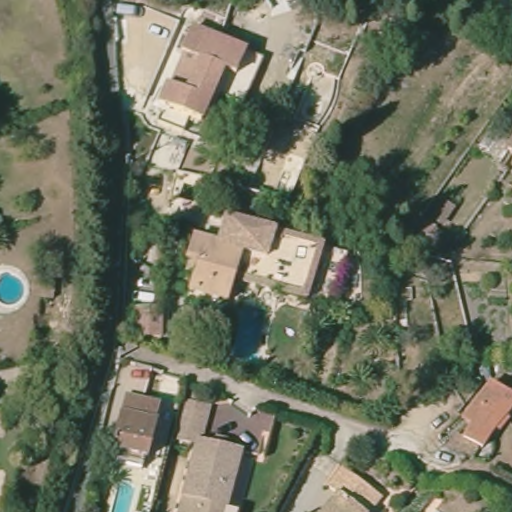pool: (226, 298, 269, 365), (1, 264, 31, 312), (102, 477, 140, 512)
